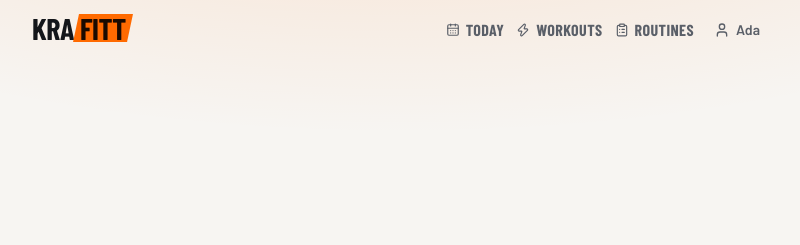
Test: NavBar › opens the settings modal from the user menu, and closes the menu
Click the button with aria-label "Menu": (737, 30) [706,12,768,48]
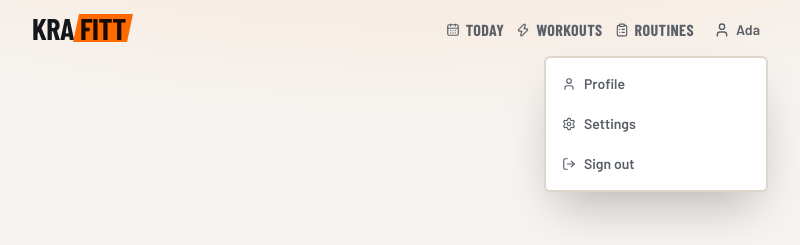
Click the button "Settings": (656, 124) [554,106,758,142]
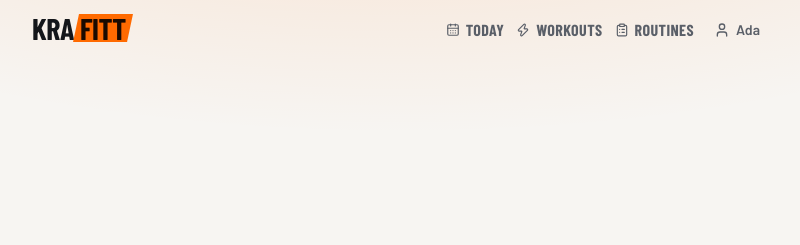
Now the text "Profile Settings Sign out" is gone
